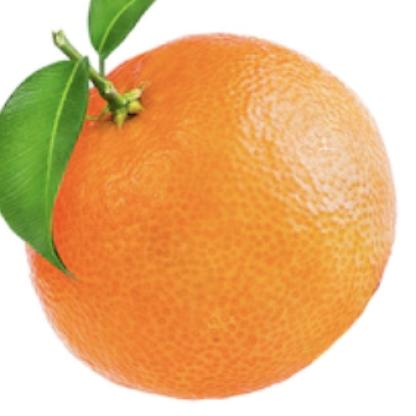fresh: (27, 32, 398, 395)
